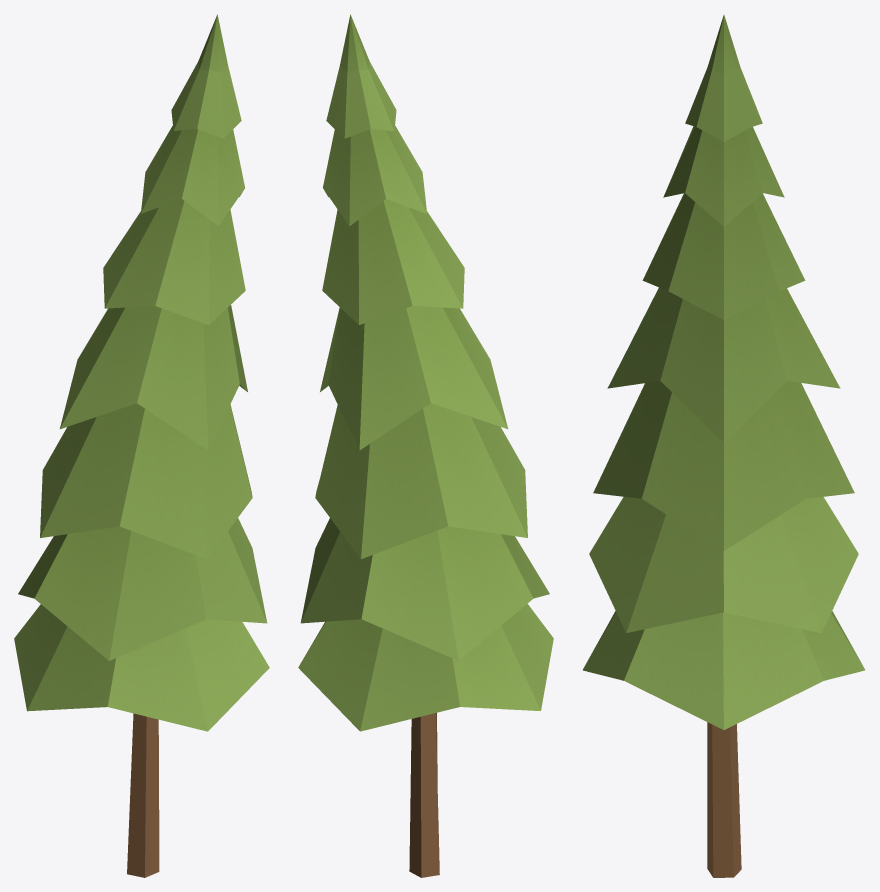
The model's file is Pine_Tree_l_05.fbx.
3 renders of one model, left to right at view 1: azimuth 30°, elevation 25°; view 2: azimuth 150°, elevation 25°; view 3: azimuth 270°, elevation 25°, orthographic. The views are drawn at different scales.
Visible parts, largest first — view 1: Pine_Tree_l_05; view 2: Pine_Tree_l_05; view 3: Pine_Tree_l_05.
Part boxes in pixels (x1,y1,x2,y2): Pine_Tree_l_05: [14, 14, 269, 877]; Pine_Tree_l_05: [298, 14, 553, 877]; Pine_Tree_l_05: [583, 15, 864, 877].
Size of the model in its own units: 558 by 1950 by 558.
